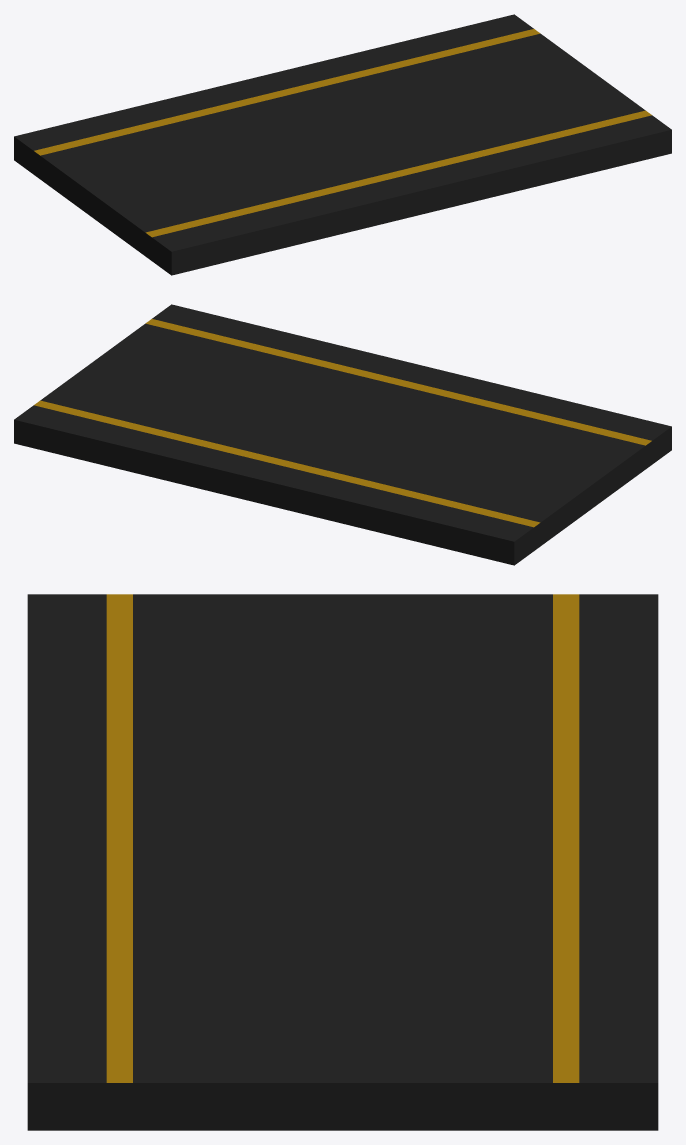
The model's file is Road with Potholes 1.fbx.
3 views of the same model, one above another, from view 1: azimuth 30°, elevation 25°; view 2: azimuth 150°, elevation 25°; view 3: azimuth 270°, elevation 25° (orthographic). The views are drawn at different scales.
Visible parts, largest first — view 1: Cube; view 2: Cube; view 3: Cube.
Boxes of the visible parts, bbox=[...] form: Cube: bbox=[14, 14, 671, 275]; Cube: bbox=[14, 304, 671, 565]; Cube: bbox=[27, 594, 658, 1130].
Size of the model in its own units: 4400 by 200 by 2400.
